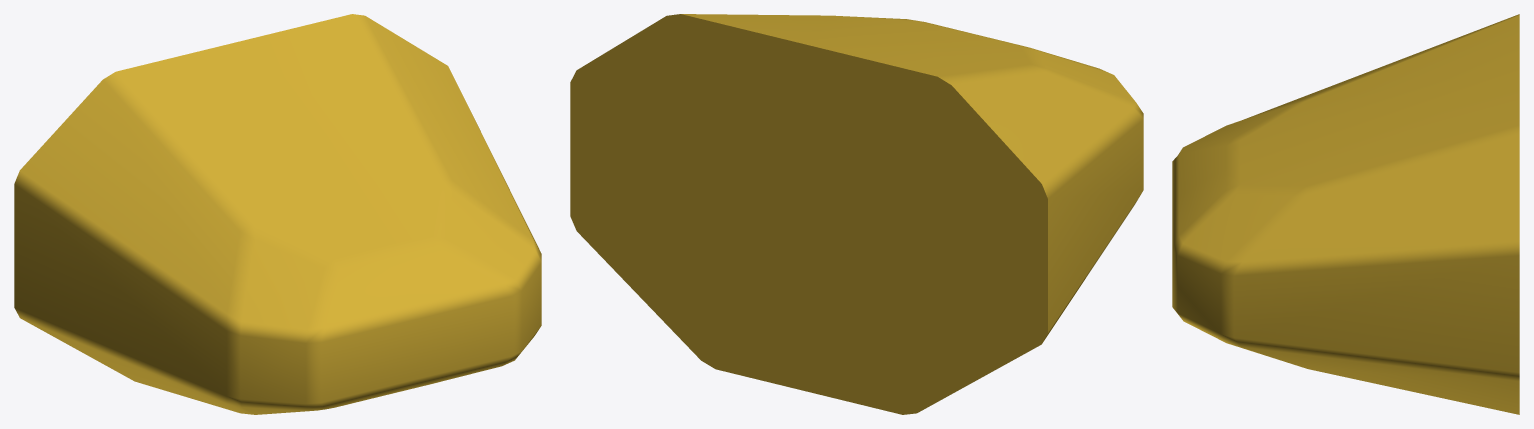
The model's file is Lowpoly_Nose_Short.fbx.
3 views of the same model, side by side, from view 1: azimuth 30°, elevation 25°; view 2: azimuth 150°, elevation 25°; view 3: azimuth 270°, elevation 25° (orthographic). The views are drawn at different scales.
Parts seen in each view (by area): view 1: Nose_Short; view 2: Nose_Short; view 3: Nose_Short.
Boxes of the visible parts, x1,y1,x2,y2 form: Nose_Short: [14, 14, 541, 414]; Nose_Short: [570, 14, 1143, 414]; Nose_Short: [1172, 14, 1519, 414].
Size of the model in its own units: 200 by 139 by 144.
